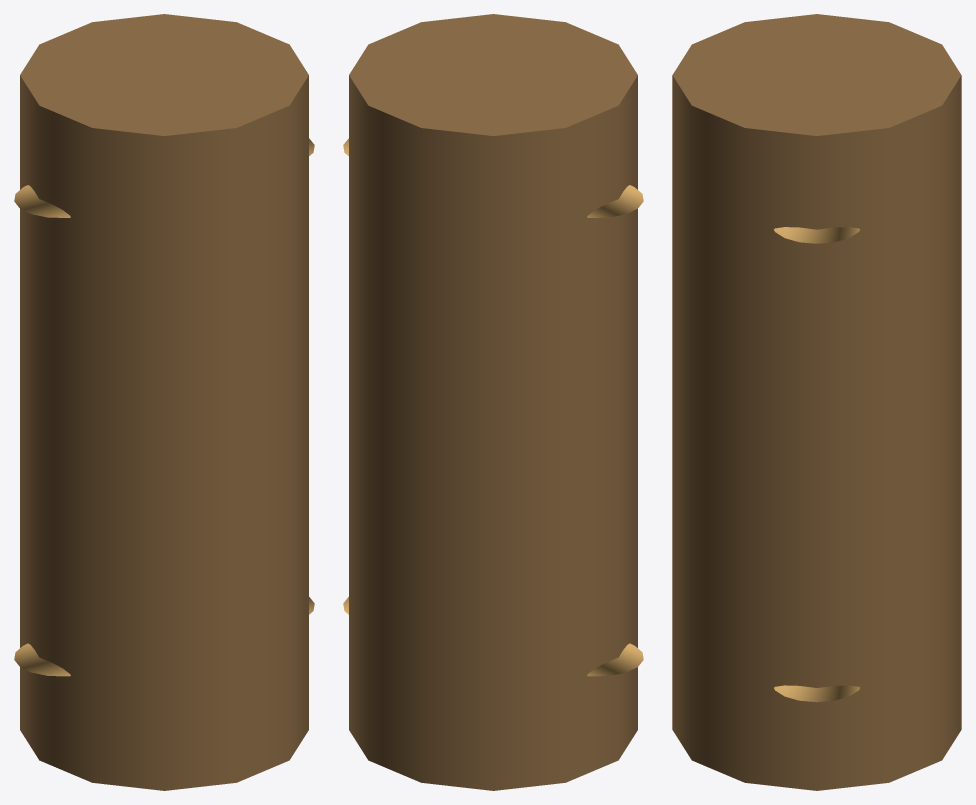
File: env-ww-whiskey.glb
3 renders of one model, left to right at view 1: azimuth 30°, elevation 25°; view 2: azimuth 150°, elevation 25°; view 3: azimuth 270°, elevation 25°, orthographic.
Bounding box in the file's own units: 0.462 × 1 × 0.4.
